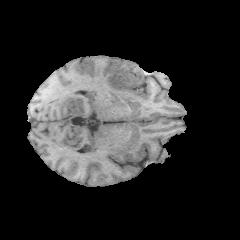glioma: (107, 60, 149, 100)
